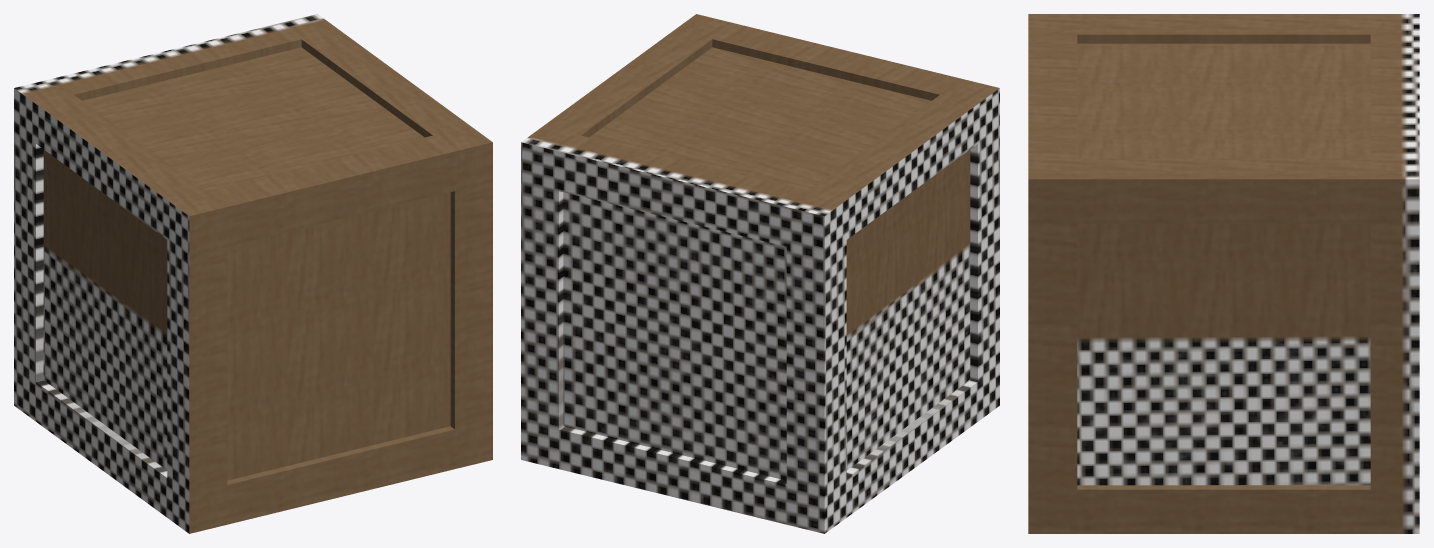
The model's file is crates.fbx.
The picture shows the model from 3 angles, left to right: view 1: azimuth 30°, elevation 25°; view 2: azimuth 150°, elevation 25°; view 3: azimuth 270°, elevation 25°; orthographic projection. The views are drawn at different scales.
Visible parts, largest first — view 1: Cube.075; view 2: Cube.075; view 3: Cube.075.
Part boxes in pixels (x1=…): Cube.075: x1=14, y1=14, x2=492, y2=533; Cube.075: x1=521, y1=14, x2=999, y2=533; Cube.075: x1=1028, y1=14, x2=1419, y2=533.
Bounding box in the file's own units: 89.84 × 89.84 × 89.84.
